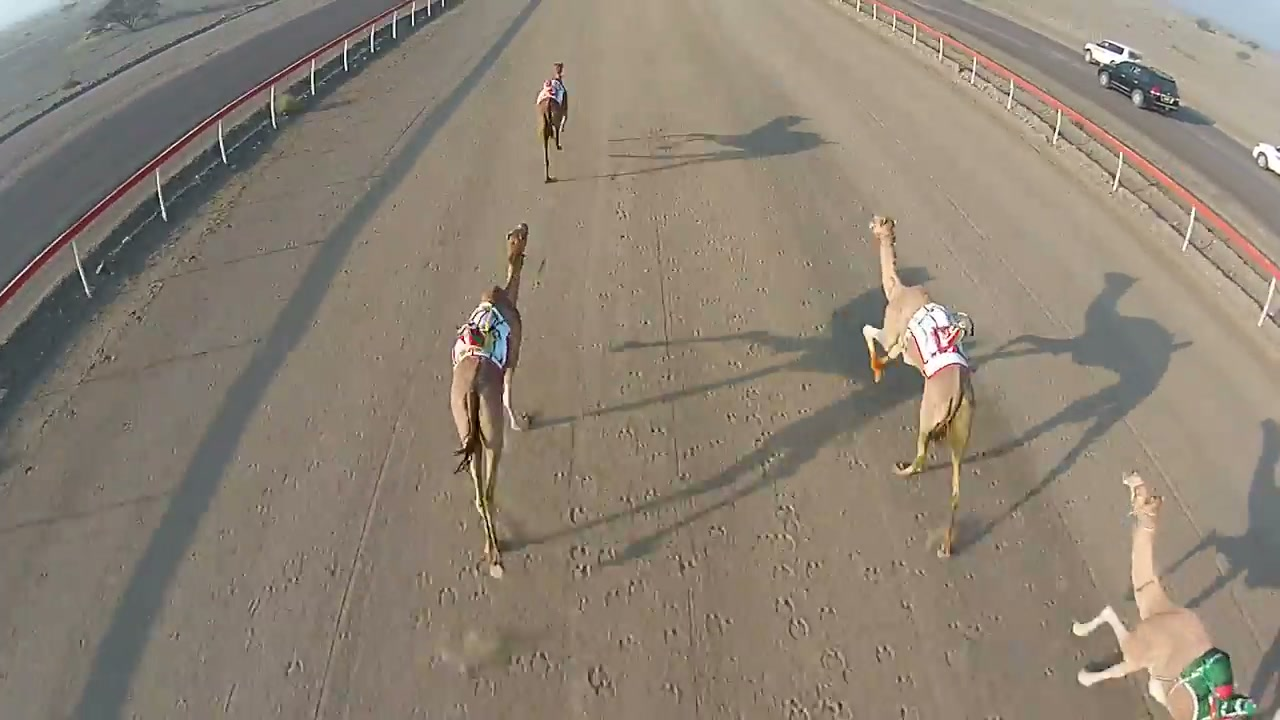animal_footprint: (551, 190, 853, 713), (842, 495, 1055, 717)
